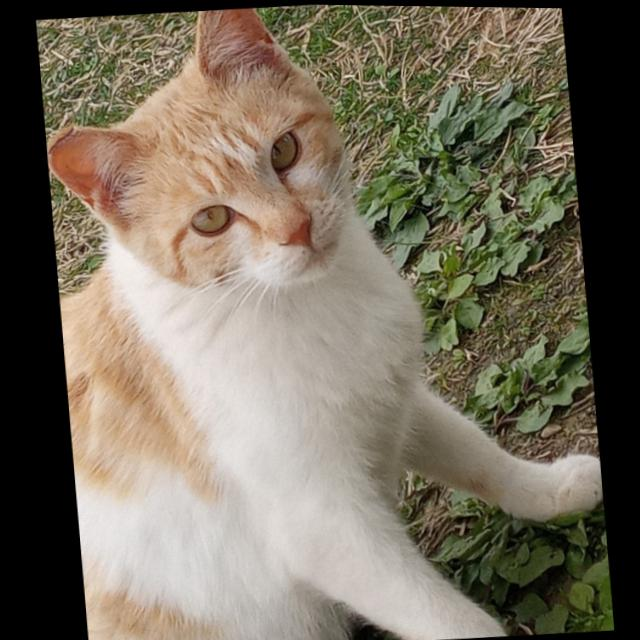animals: (35, 0, 388, 318)
